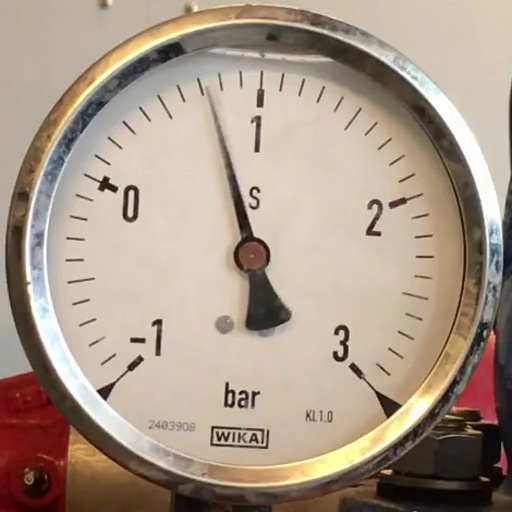base: (232, 236, 271, 274)
circle_plate: (48, 54, 466, 466)
maximum: (348, 361, 366, 380)
minimum: (127, 354, 144, 372)
number: (128, 318, 163, 358), (364, 196, 385, 239), (121, 183, 141, 225), (331, 322, 351, 364), (248, 113, 264, 156)
tip: (203, 82, 210, 92)
